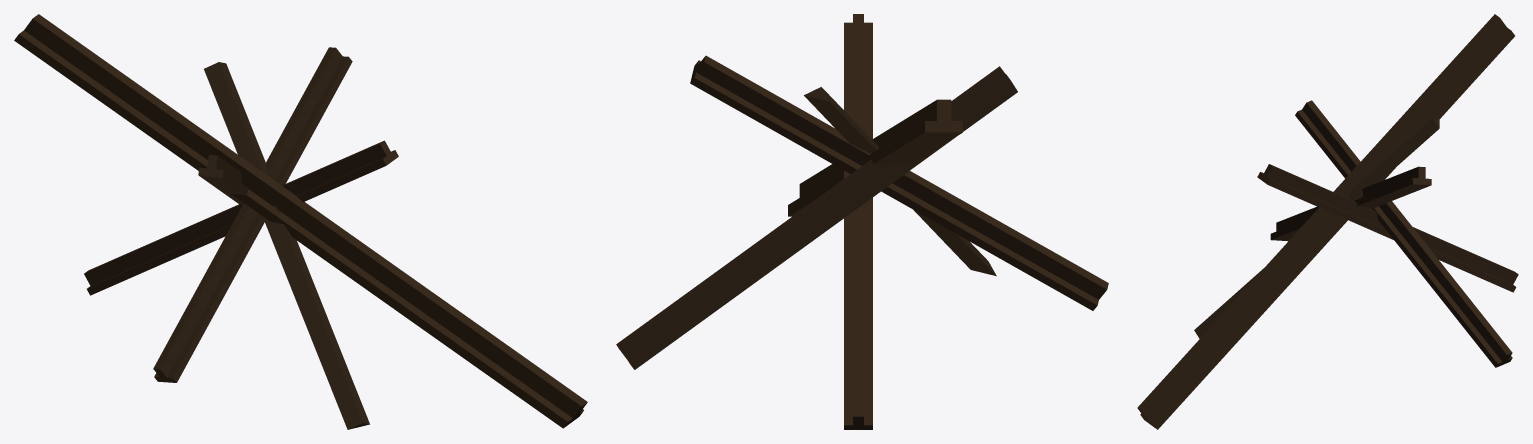
The model's file is Obstakel2.fbx.
3 renders of one model, left to right at view 1: azimuth 30°, elevation 25°; view 2: azimuth 150°, elevation 25°; view 3: azimuth 270°, elevation 25°, orthographic. The views are drawn at different scales.
Visible parts, largest first — view 1: polySurface2; view 2: polySurface2; view 3: polySurface2.
Part boxes in pixels (x1,y1,x2,y2): polySurface2: (14, 14, 587, 429); polySurface2: (616, 14, 1108, 429); polySurface2: (1137, 14, 1518, 429).
Size of the model in its own units: 16.65 by 14.71 by 18.38.
